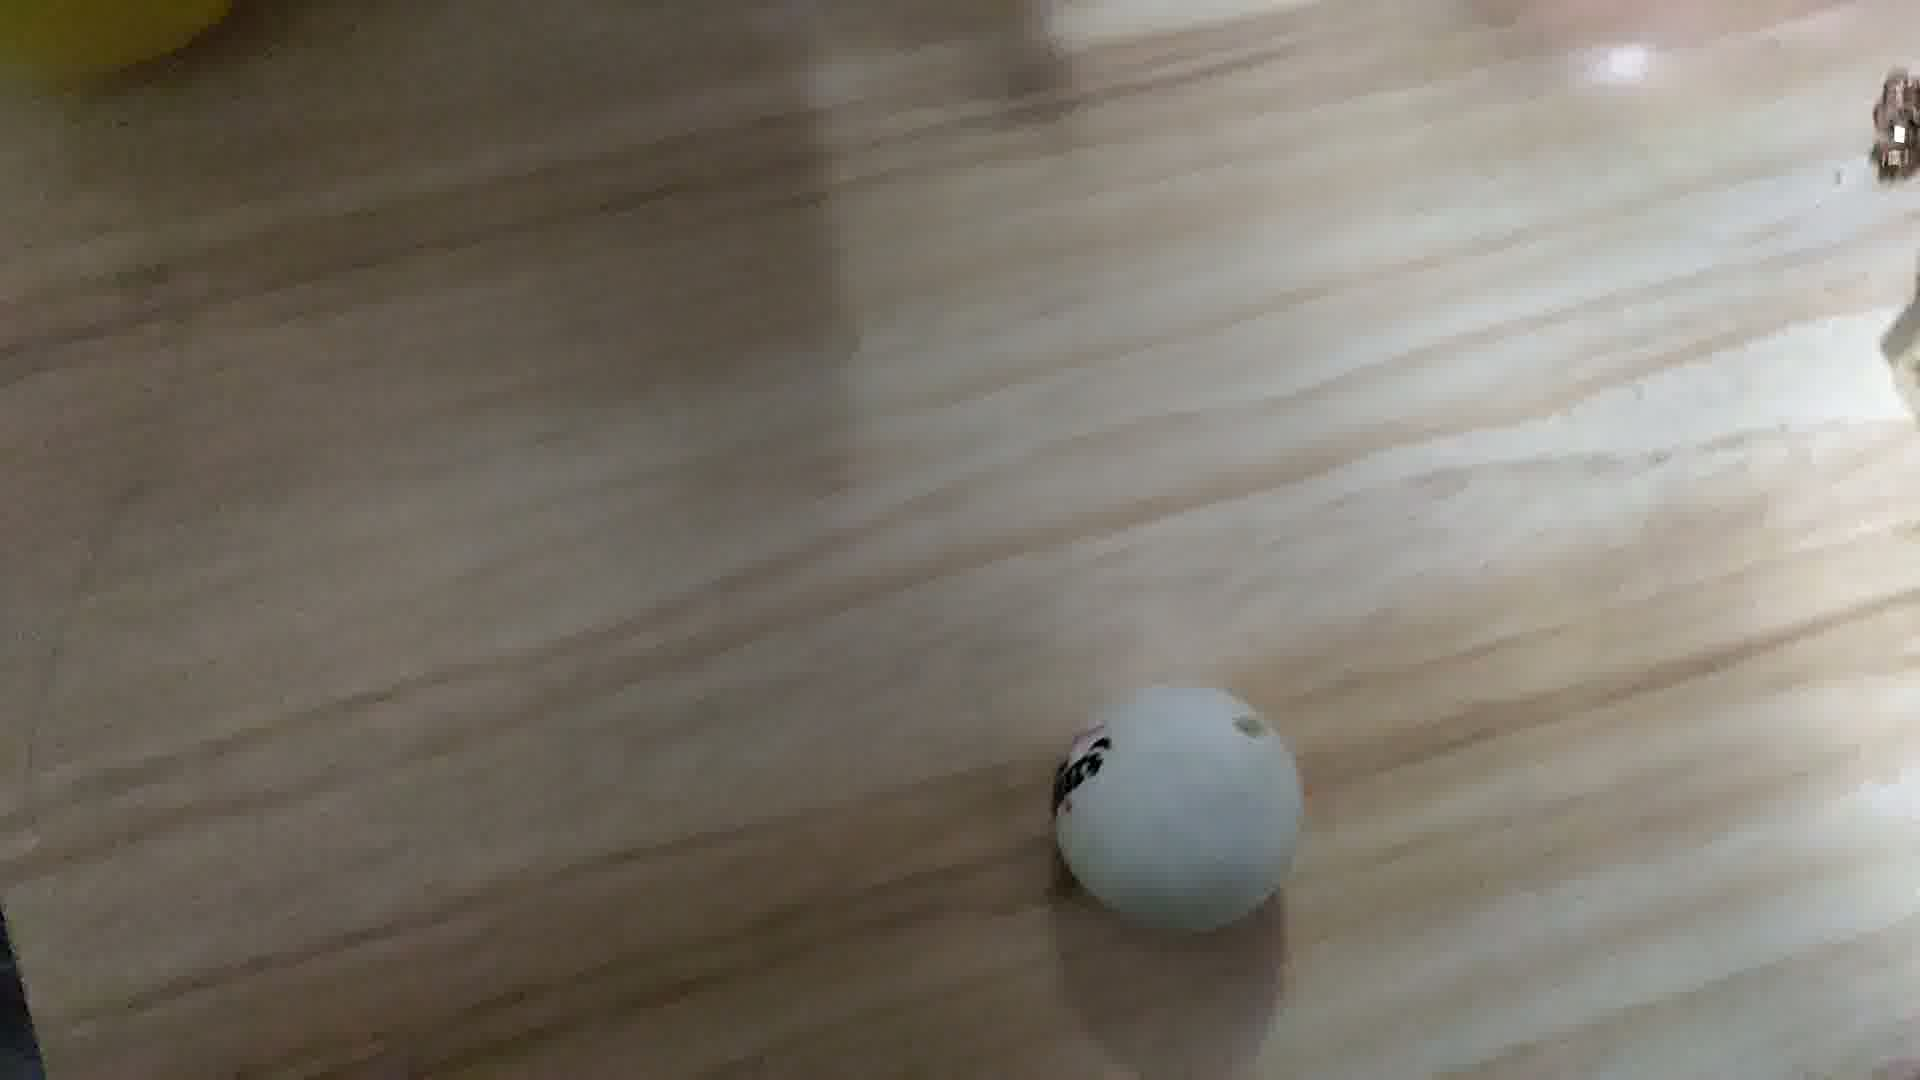Ball: (1054, 679, 1309, 935)
